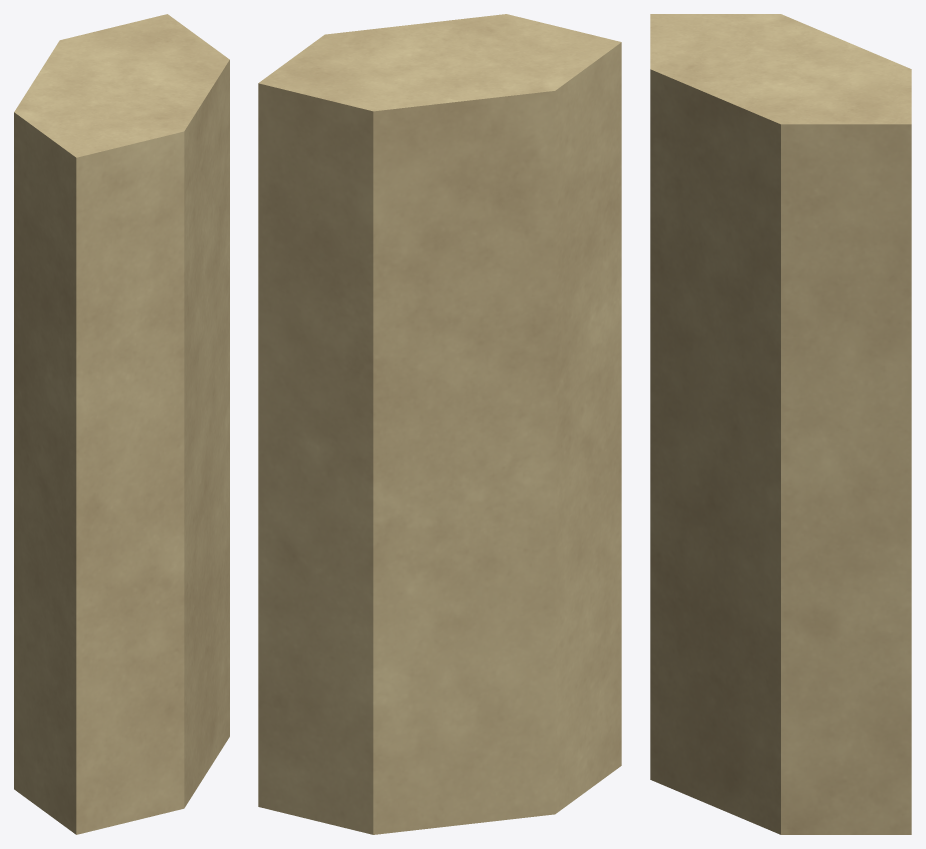
The model's file is sm_cornerlarge.fbx.
3 views of the same model, side by side, from view 1: azimuth 30°, elevation 25°; view 2: azimuth 150°, elevation 25°; view 3: azimuth 270°, elevation 25° (orthographic). The views are drawn at different scales.
Parts seen in each view (by area): view 1: Wall_CornerLarge; view 2: Wall_CornerLarge; view 3: Wall_CornerLarge.
Part boxes in pixels (x1,y1,x2,y2): Wall_CornerLarge: (14, 14, 229, 834); Wall_CornerLarge: (258, 14, 621, 834); Wall_CornerLarge: (650, 14, 911, 834).
Bounding box in the file's own units: 1 × 3 × 1.
